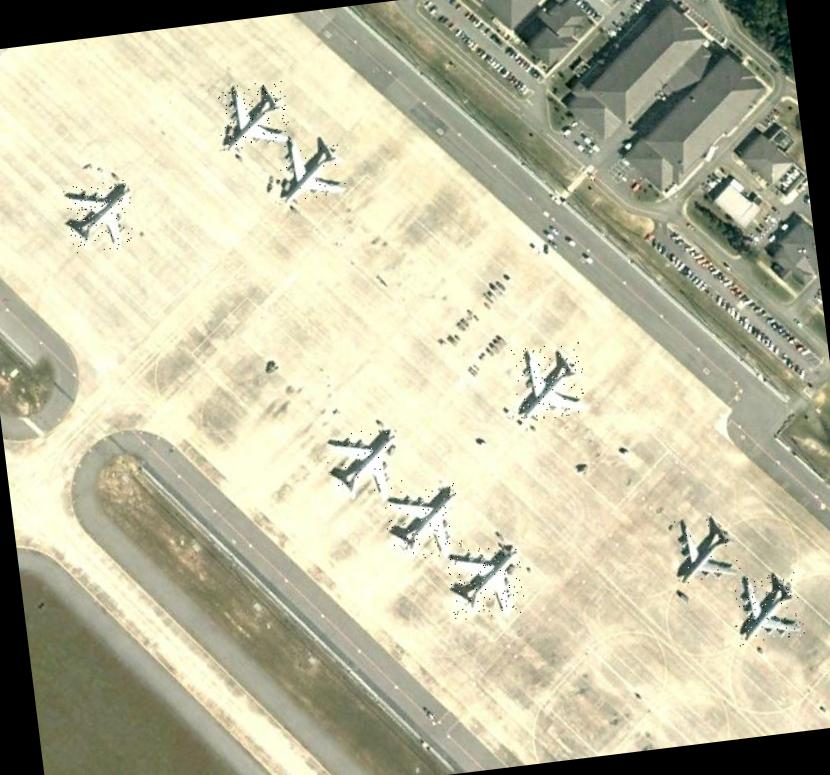A11: (382, 481, 464, 561), (509, 340, 588, 422), (446, 543, 526, 620), (322, 423, 404, 498), (62, 176, 138, 254), (730, 570, 807, 646), (215, 78, 291, 150), (273, 134, 349, 206), (672, 512, 744, 584)
